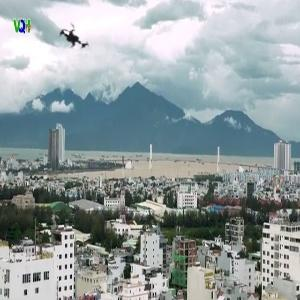drone: (52, 13, 101, 62)
